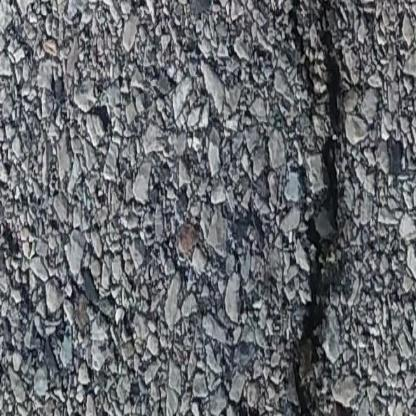Cracks: (291, 0, 379, 416), (290, 0, 316, 116)
